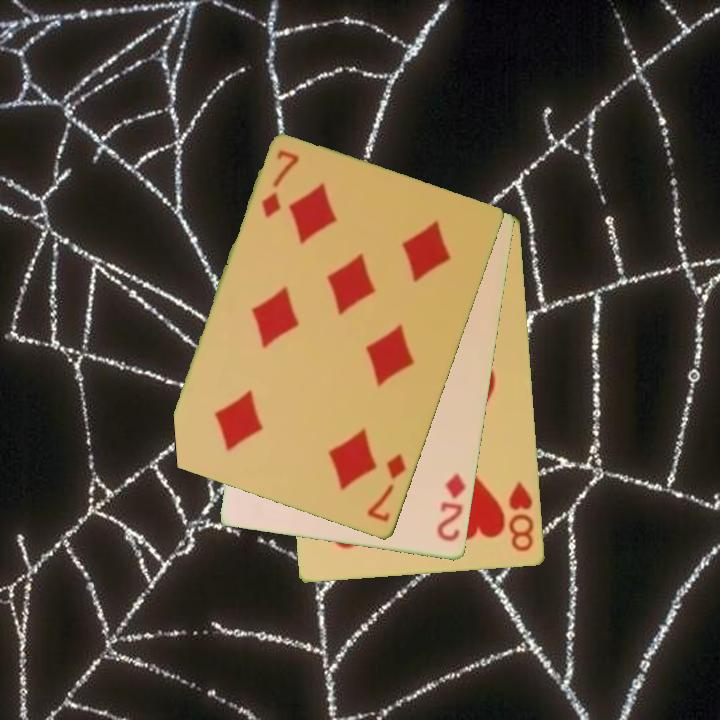2d: (434, 470, 469, 545)
7d: (364, 451, 410, 525), (258, 147, 303, 222)
8h: (505, 479, 538, 555)
